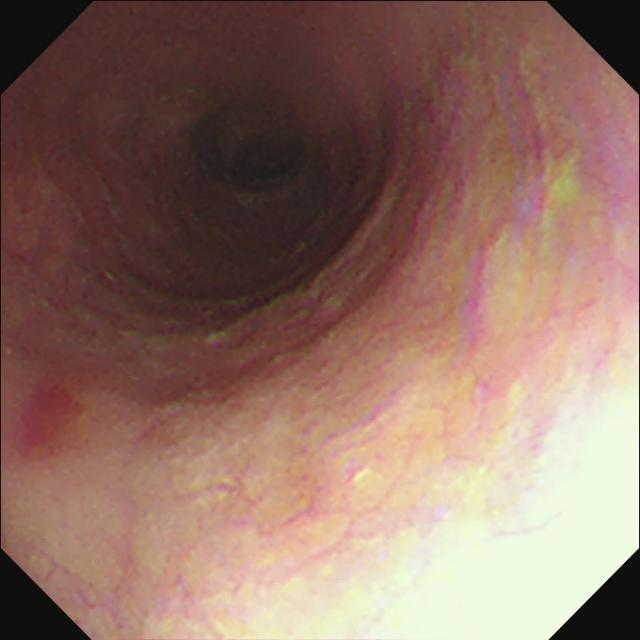E: (186, 88, 316, 201)
